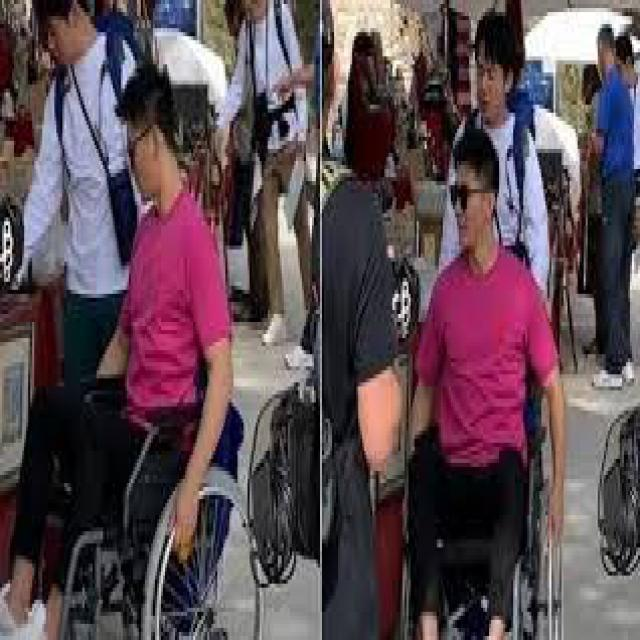wheelchairs: (58, 246, 268, 636), (402, 290, 580, 636)
